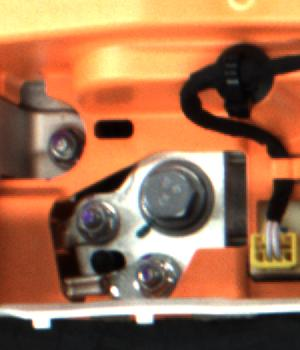nut_b: (132, 157, 218, 236)
screw_s: (126, 259, 173, 297), (73, 201, 117, 239), (42, 128, 79, 162)
